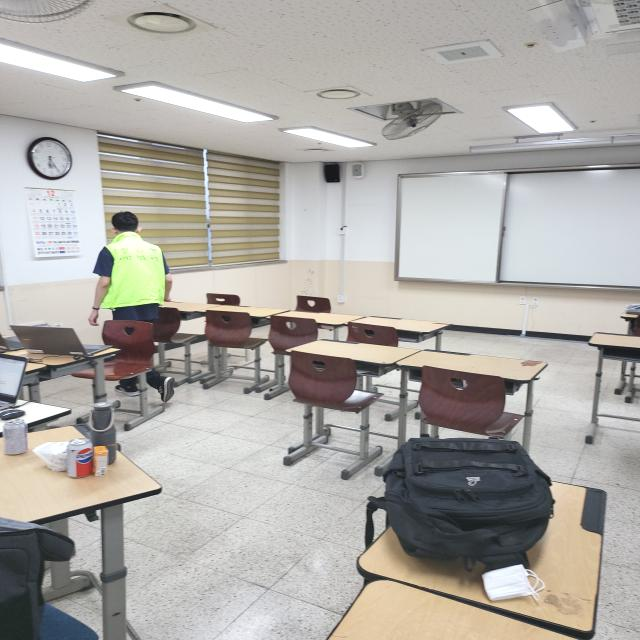weston_spy: (94, 226, 171, 314)
